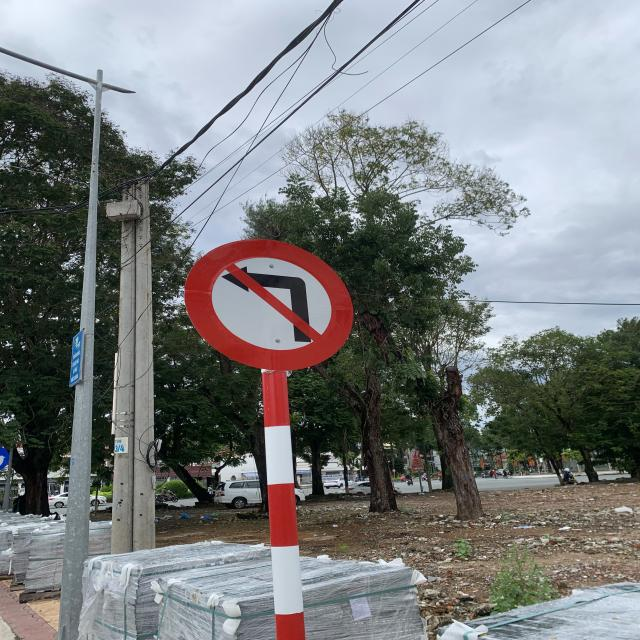Cam_Re_Trai: (184, 239, 353, 369)
